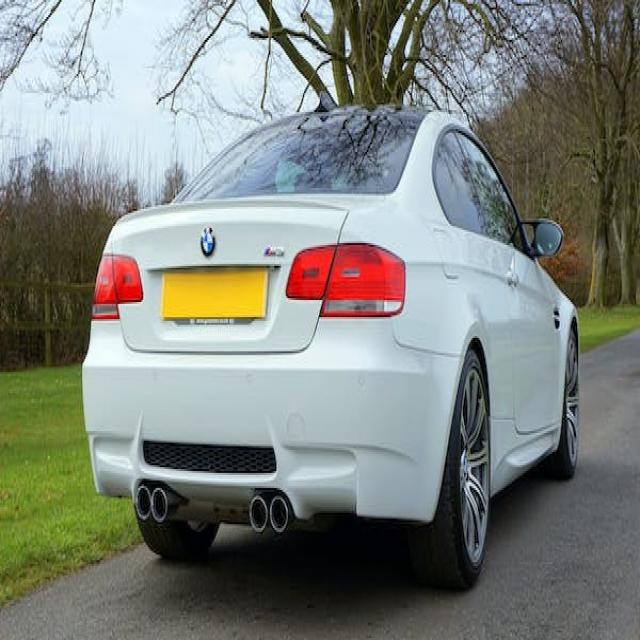yolov7-seg-car: (82, 88, 581, 588)
